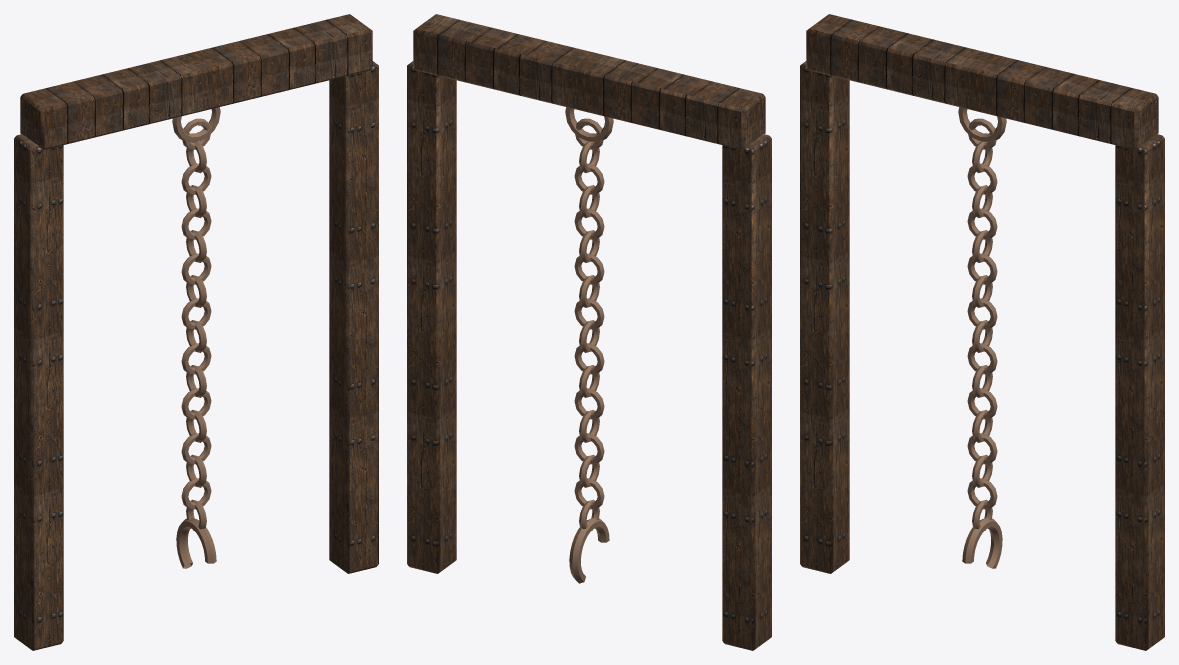
The model's file is lift-chain-v01.glb.
The picture shows the model from 3 angles, left to right: view 1: azimuth 30°, elevation 25°; view 2: azimuth 150°, elevation 25°; view 3: azimuth 330°, elevation 25°; orthographic projection.
Visible parts, largest first — view 1: lift-chain; view 2: lift-chain; view 3: lift-chain.
Boxes of the visible parts, x1,y1,x2,y2 form: lift-chain: (14, 14, 378, 650); lift-chain: (407, 14, 771, 650); lift-chain: (800, 14, 1164, 650).
Bounding box in the file's own units: 2.1 × 3.12 × 0.3594.
Materials: 2 (1 with a texture image).
